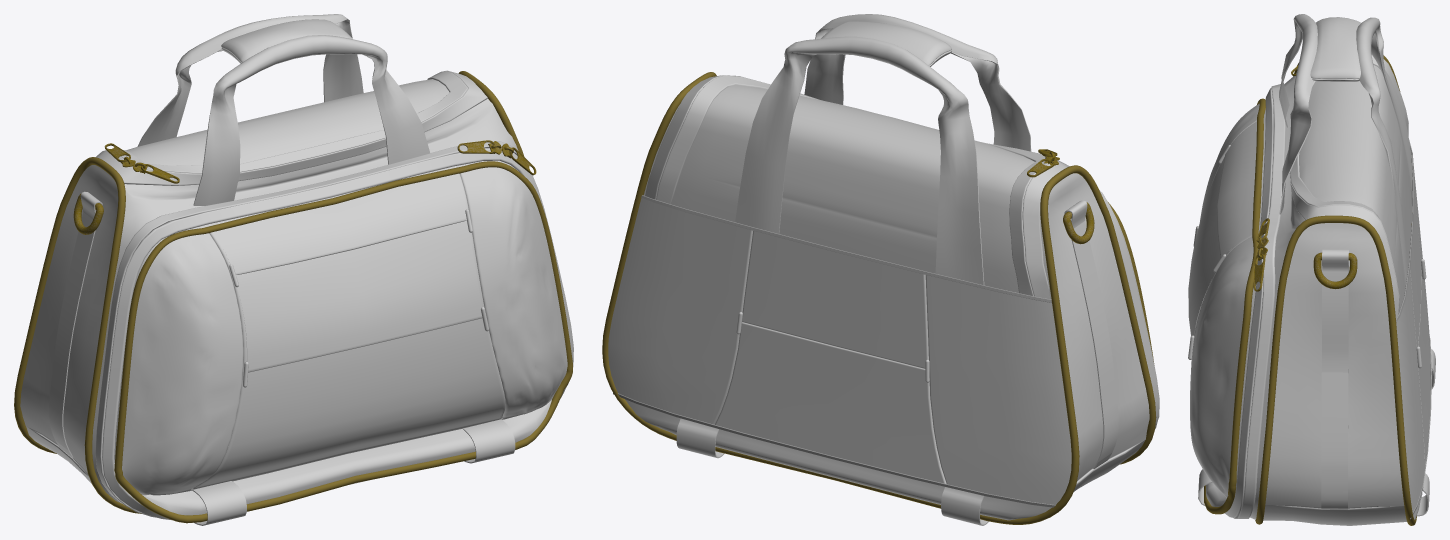
Rendered from sport_bag.fbx.
3 views of the same model, side by side, from view 1: azimuth 30°, elevation 25°; view 2: azimuth 150°, elevation 25°; view 3: azimuth 270°, elevation 25° (orthographic). The views are drawn at different scales.
Parts seen in each view (by area): view 1: sports_bag; view 2: sports_bag; view 3: sports_bag.
Boxes of the visible parts, x1,y1,x2,y2 form: sports_bag: (14,14,573,525); sports_bag: (602,14,1159,525); sports_bag: (1188,14,1435,525).
Size of the model in its own units: 1.39 by 1.17 by 0.6449.
